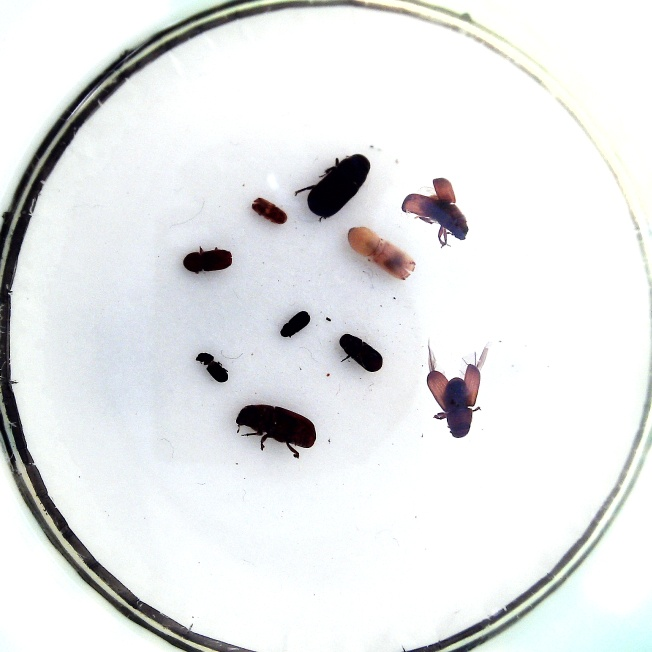acuminatus: (196, 353, 227, 382)
armandi: (339, 334, 382, 372)
boerner: (347, 226, 416, 280)
coleoptera: (252, 197, 288, 225), (280, 310, 310, 338)
leconte: (307, 154, 370, 219), (235, 404, 316, 449), (421, 194, 468, 242), (442, 377, 473, 438)
linnaeus: (184, 248, 232, 273)
